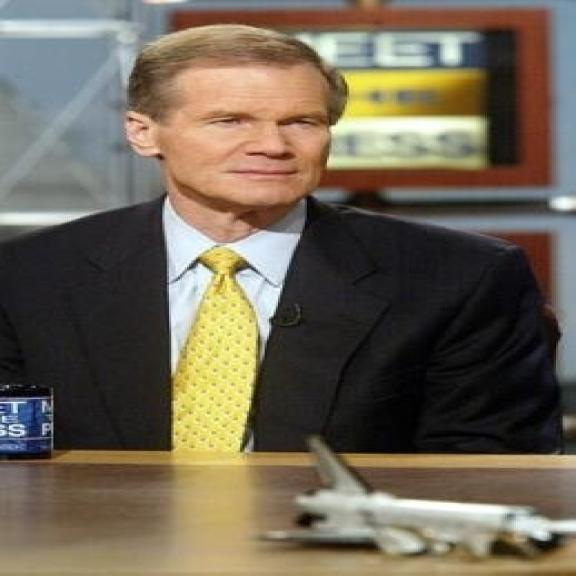face: (120, 26, 343, 214)
